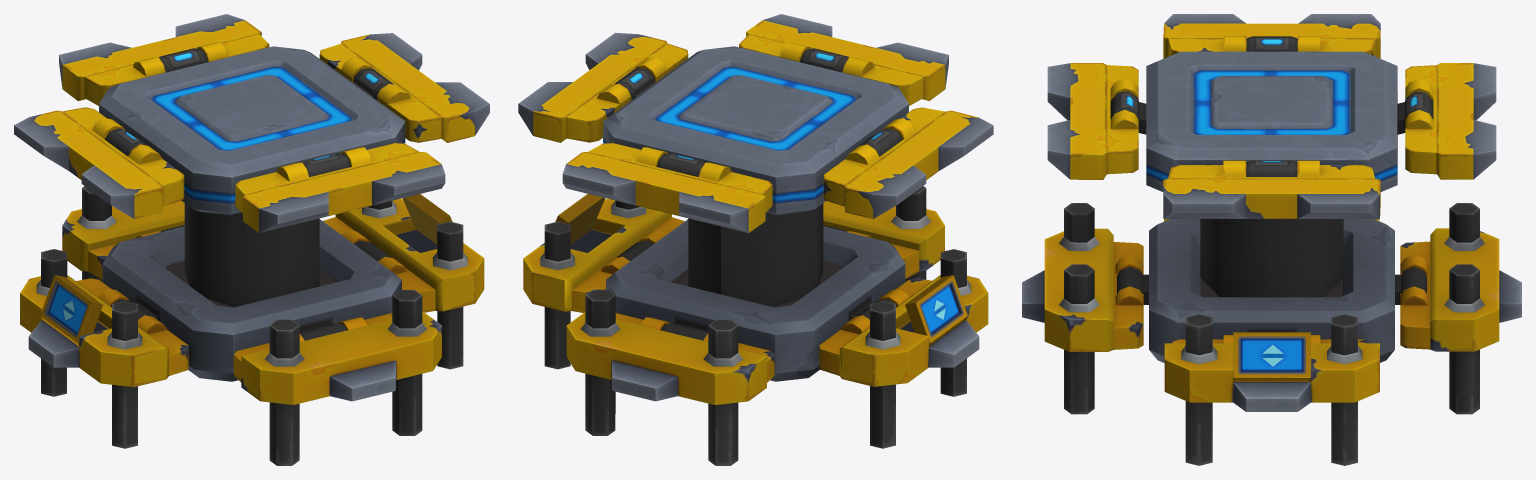
Rendered from lift_preview.fbx.
3 views of the same model, side by side, from view 1: azimuth 30°, elevation 25°; view 2: azimuth 150°, elevation 25°; view 3: azimuth 270°, elevation 25° (orthographic). The views are drawn at different scales.
Visible parts, largest first — view 1: char_lift1; view 2: char_lift1; view 3: char_lift1.
Boxes of the visible parts, x1=… form: char_lift1: x1=14, y1=14, x2=489, y2=465; char_lift1: x1=518, y1=14, x2=993, y2=465; char_lift1: x1=1022, y1=14, x2=1521, y2=465.
Bounding box in the file's own units: 1.1 × 0.6768 × 1.1.
